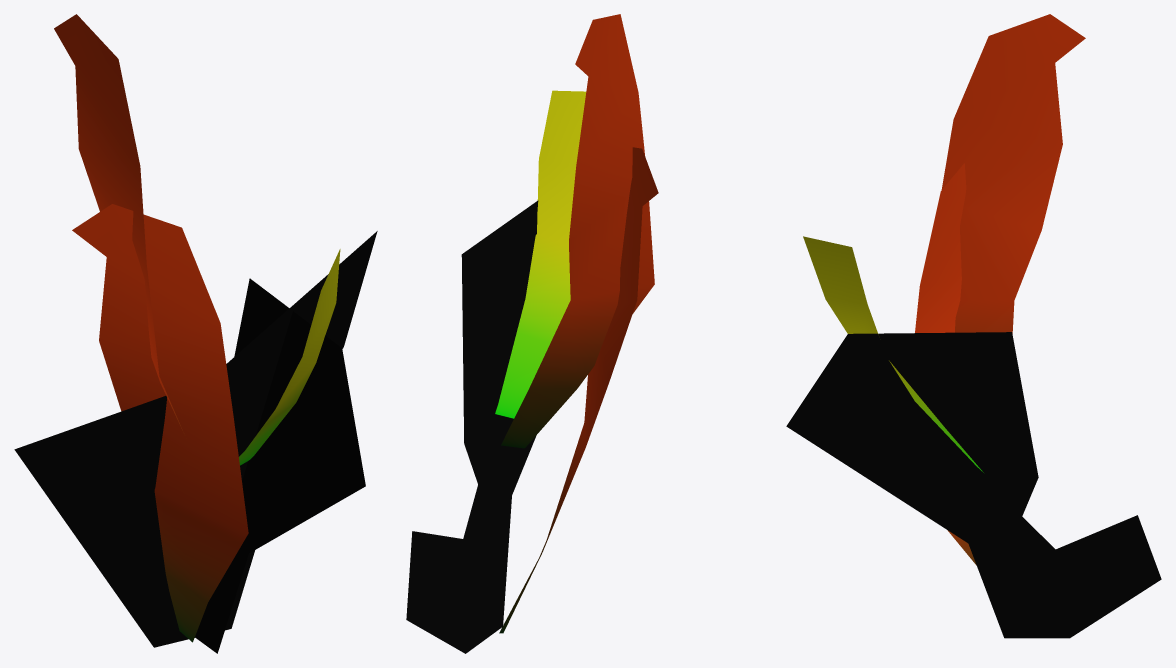
File: Seaweed_LOD0_Var5_sdpjN.fbx
3 renders of one model, left to right at view 1: azimuth 30°, elevation 25°; view 2: azimuth 150°, elevation 25°; view 3: azimuth 270°, elevation 25°, orthographic. The views are drawn at different scales.
Parts seen in each view (by area): view 1: _8fe9_Var5_LOD0; view 2: _8fe9_Var5_LOD0; view 3: _8fe9_Var5_LOD0.
Part boxes in pixels (x1,y1,x2,y2): _8fe9_Var5_LOD0: [14, 14, 377, 653]; _8fe9_Var5_LOD0: [406, 14, 658, 653]; _8fe9_Var5_LOD0: [786, 14, 1161, 638].
Bounding box in the file's own units: 10.46 × 19.24 × 11.39.
